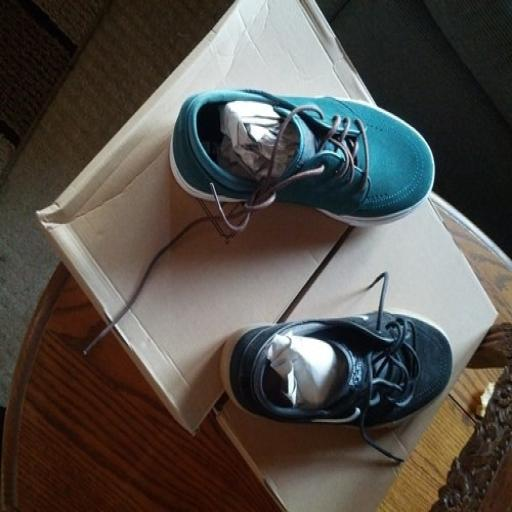shoe: (221, 273, 453, 462), (170, 90, 434, 227)
